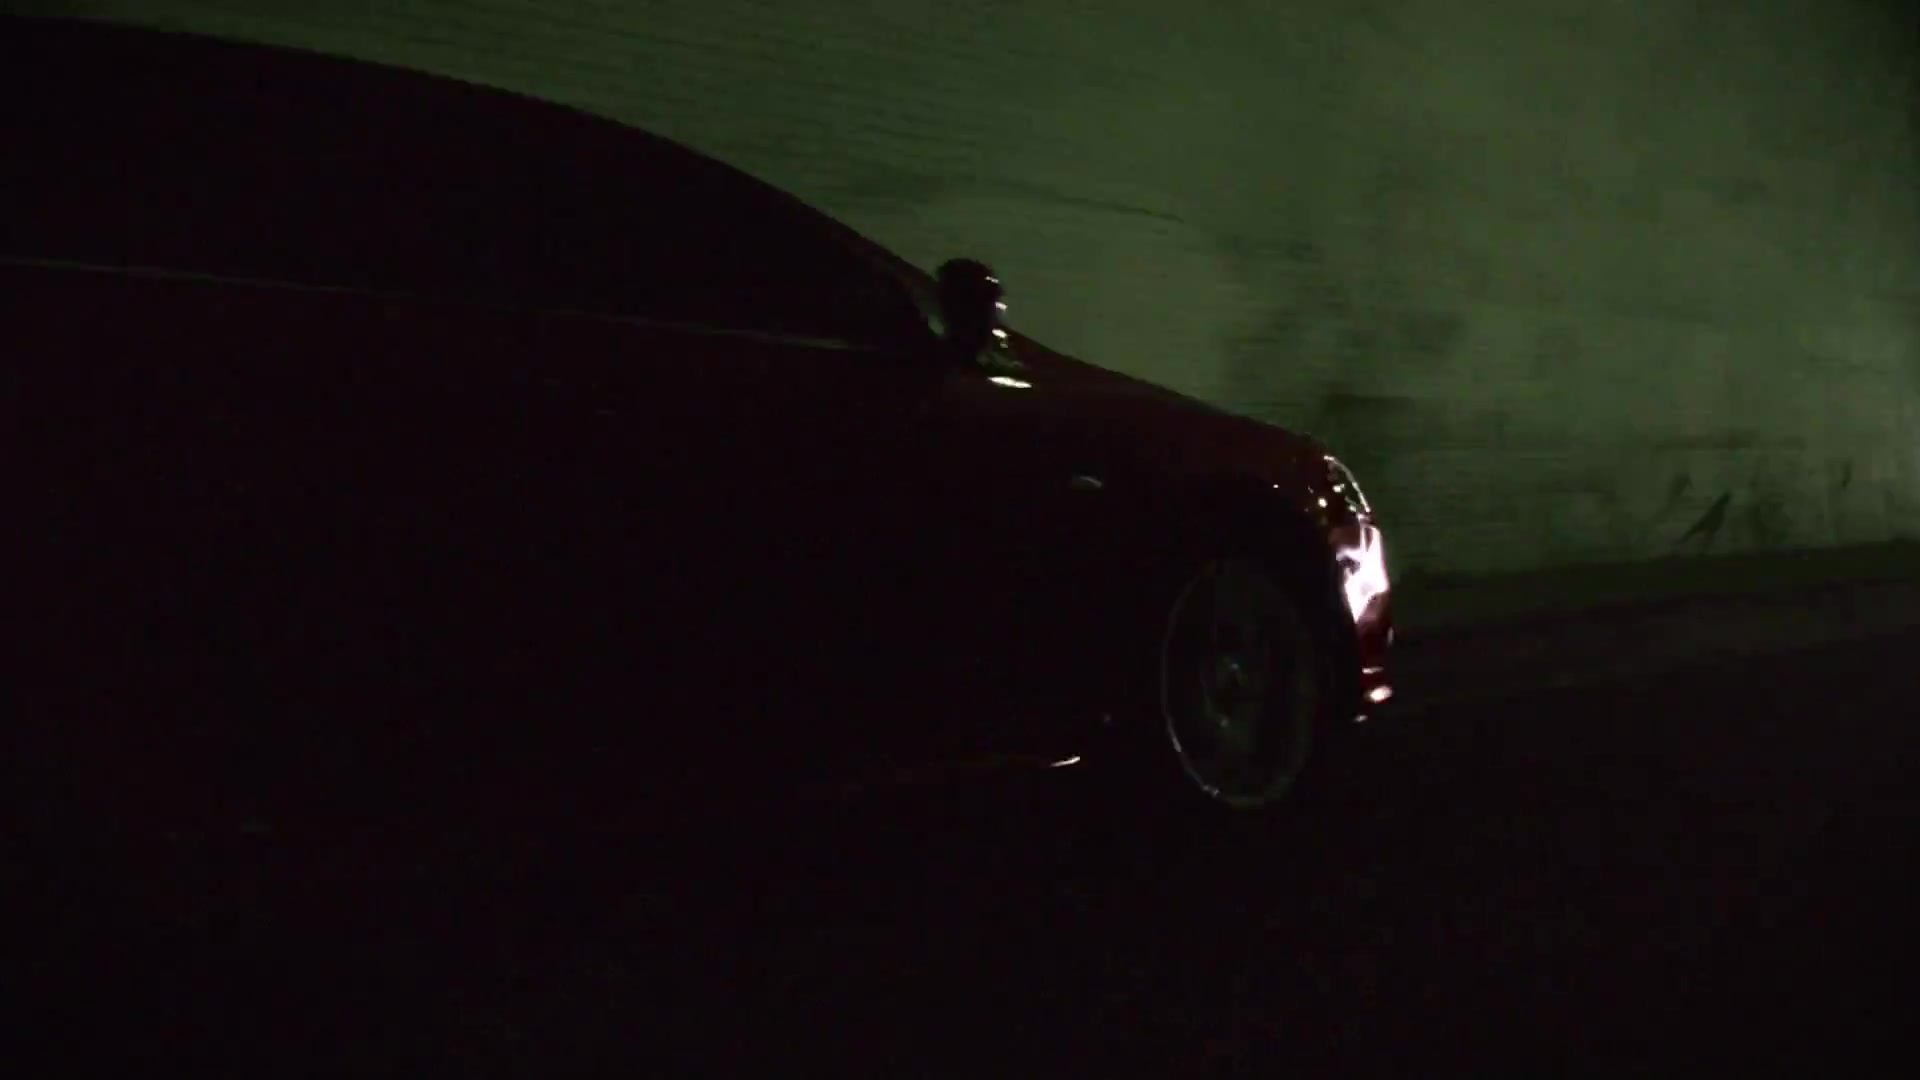car: (3, 12, 1410, 964)
